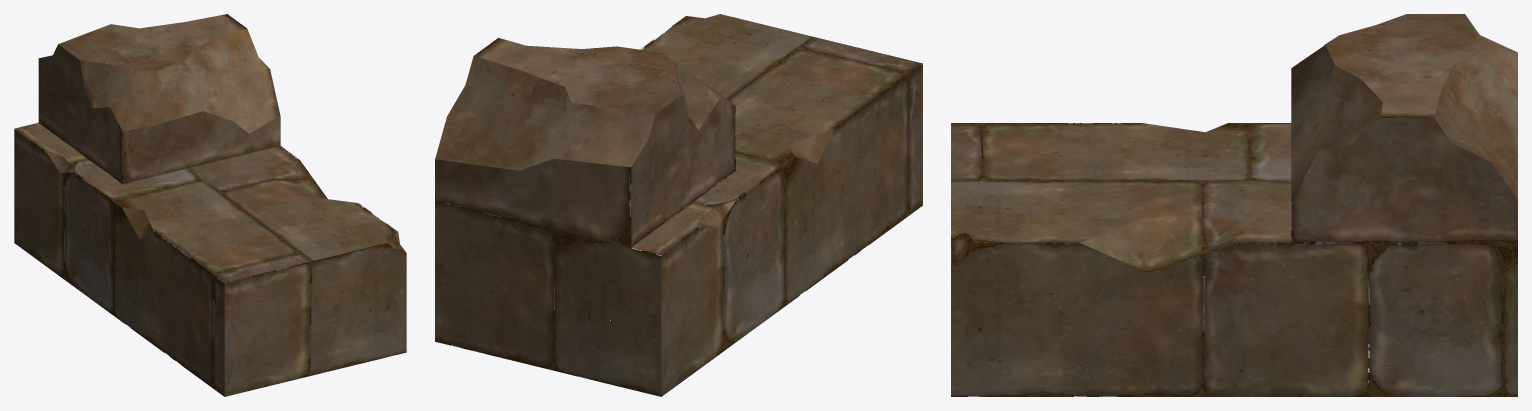
3 views of the same model, side by side, from view 1: azimuth 30°, elevation 25°; view 2: azimuth 150°, elevation 25°; view 3: azimuth 270°, elevation 25° (orthographic). The views are drawn at different scales.
Visible parts, largest first — view 1: SM_DK_Crumbled_BrickWall_03_LOD0; view 2: SM_DK_Crumbled_BrickWall_03_LOD0; view 3: SM_DK_Crumbled_BrickWall_03_LOD0.
Boxes of the visible parts, x1,y1,x2,y2 form: SM_DK_Crumbled_BrickWall_03_LOD0: (14,14,406,396); SM_DK_Crumbled_BrickWall_03_LOD0: (435,14,922,396); SM_DK_Crumbled_BrickWall_03_LOD0: (951,14,1517,396).
Size of the model in its own units: 2 by 2.17 by 4.
